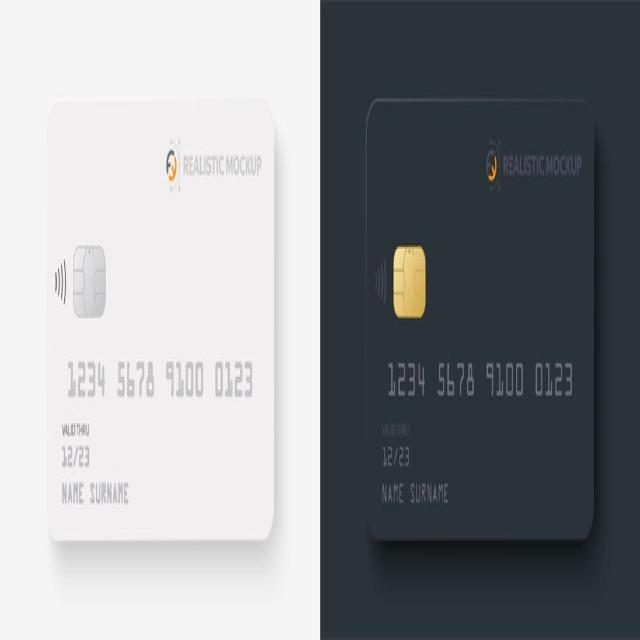payment_card: (363, 96, 597, 544), (45, 97, 276, 543)
